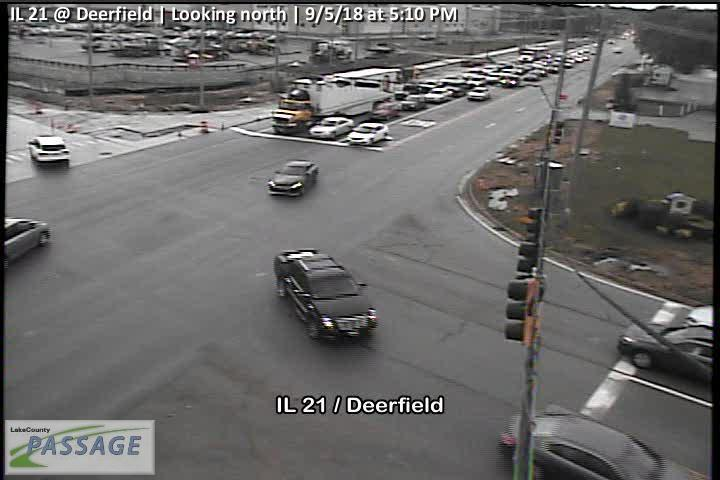SUV: (27, 136, 71, 165)
Sedan: (497, 405, 691, 480), (271, 246, 377, 341), (617, 315, 715, 386), (1, 216, 52, 276), (267, 161, 319, 197), (308, 116, 352, 142), (347, 122, 388, 147), (372, 103, 399, 118), (465, 87, 489, 101), (426, 88, 449, 102), (403, 94, 424, 108)
Truck: (271, 68, 404, 138)
